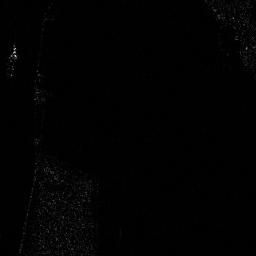ship: (8, 46, 18, 78)
